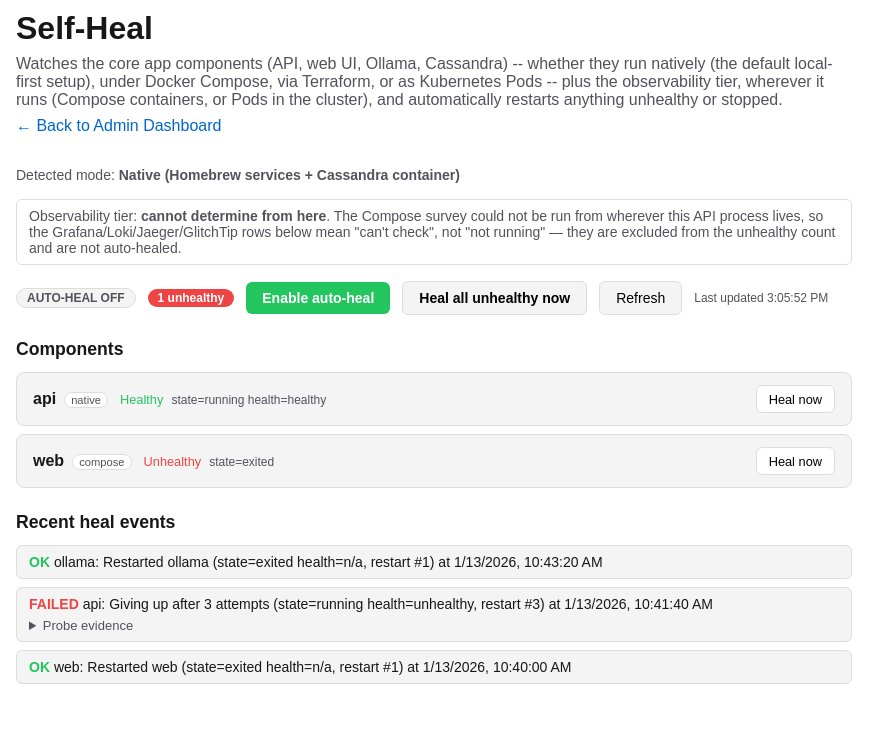
SelfHealPage › heals all unhealthy components, honoring a declined confirmation, and reports nothing-to-heal
Click the button "Heal all unhealthy now" at (495, 298), box 402,281 -> 587,315
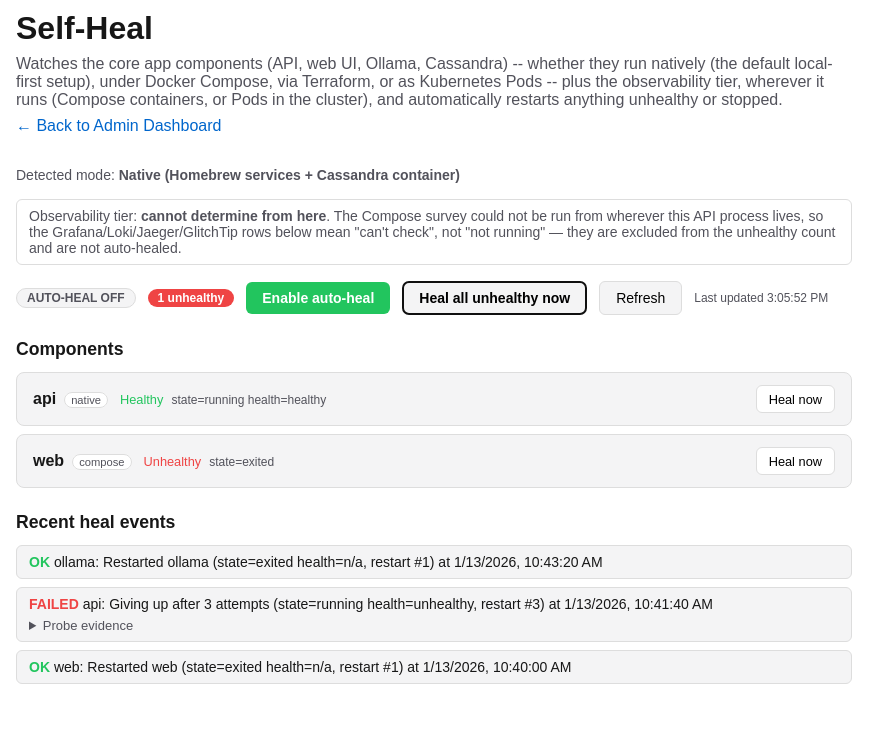
Expected: the text "Nothing to heal" is not shown
Click the button "Heal all unhealthy now" at (495, 298), box 402,281 -> 587,315
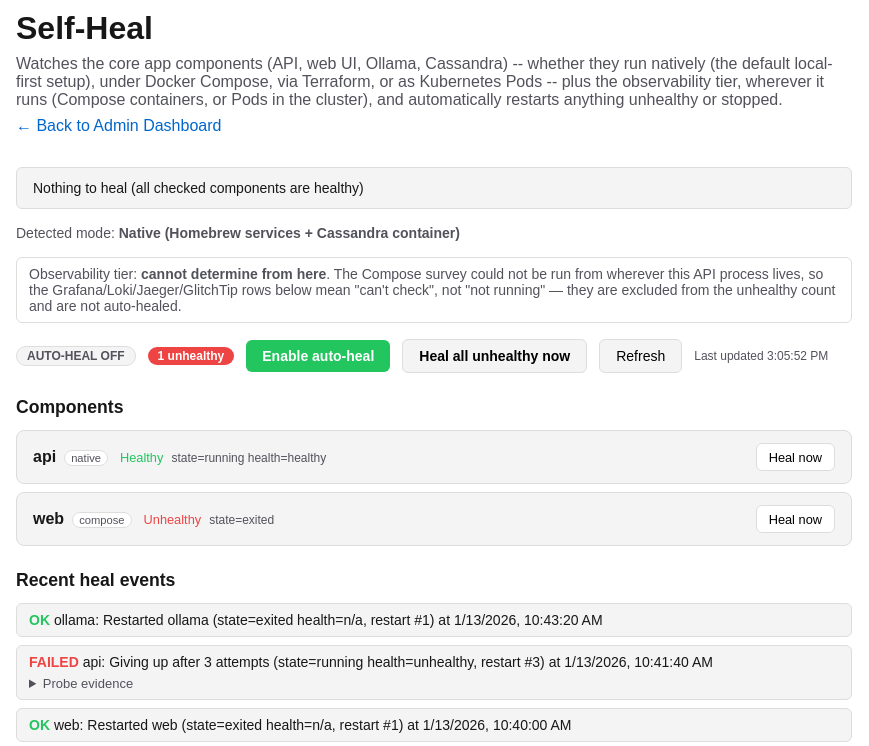
Expected: the text "Nothing to heal (all checked components are healthy)" is shown, 16,167 -> 852,209
